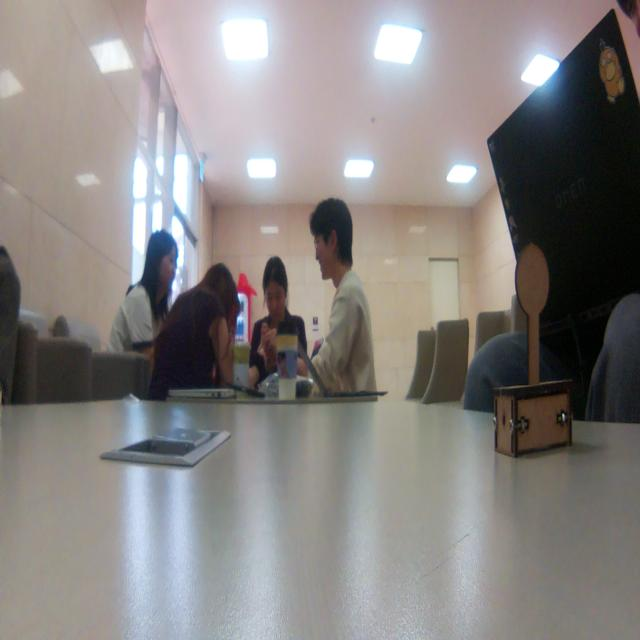target: (490, 242, 574, 458)
